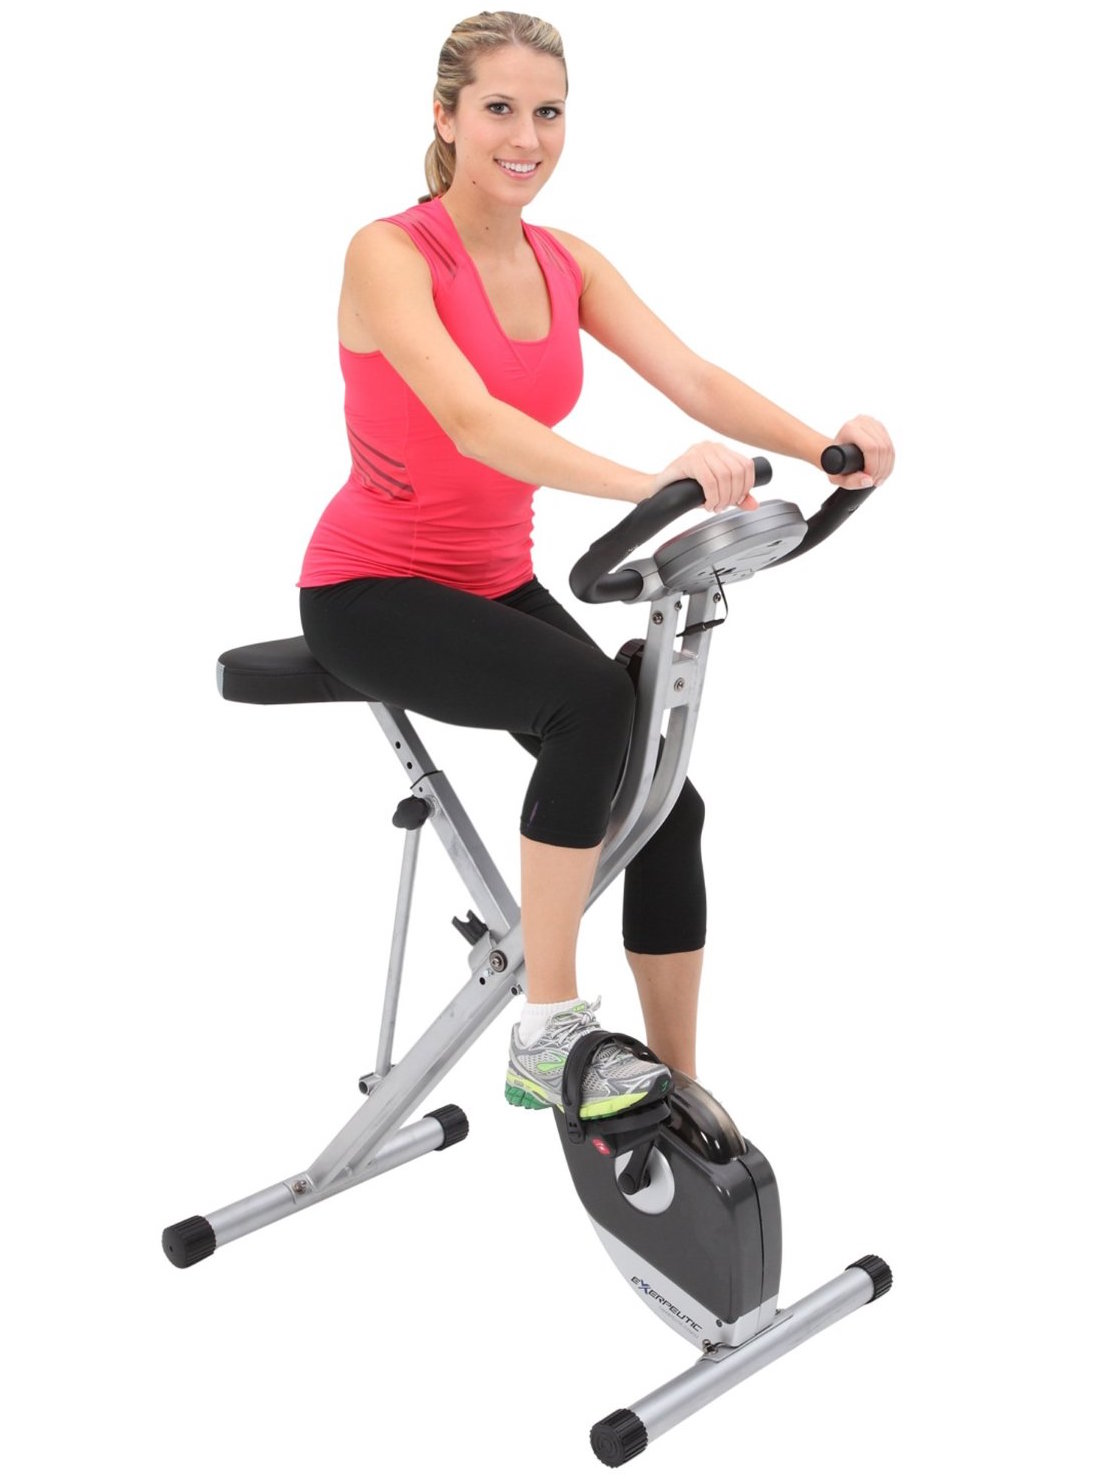gym_bike: (192, 379, 921, 1450)
